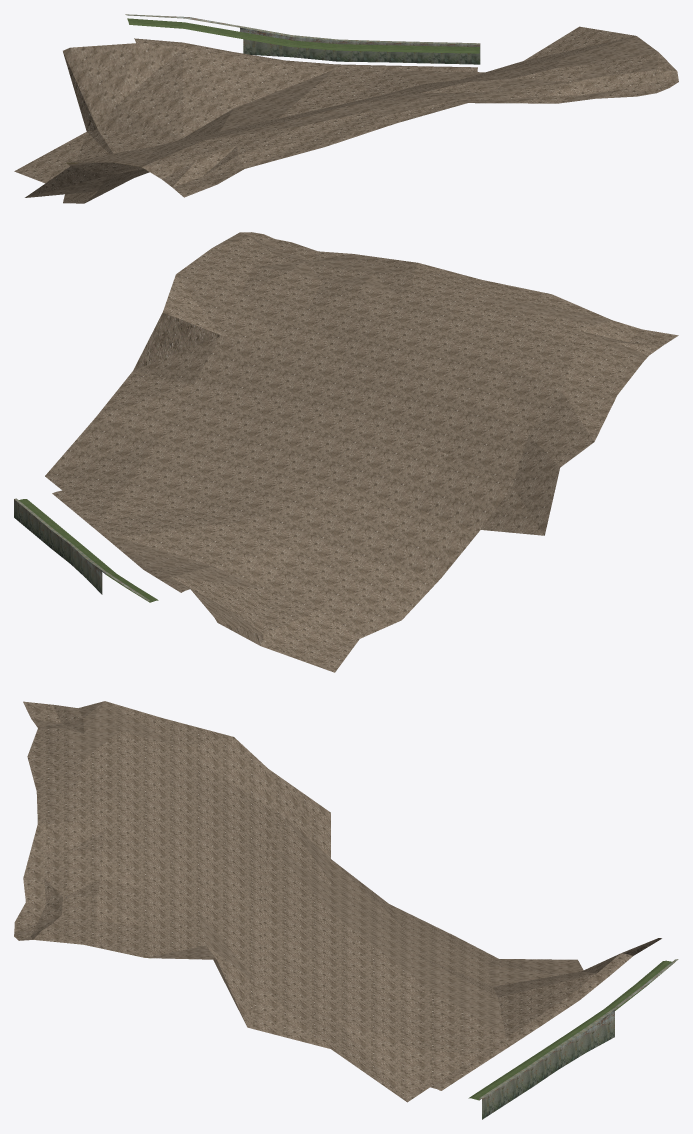
Rendered from cs_landbit_32.obj.
The picture shows the model from 3 angles, top to bottom: view 1: azimuth 30°, elevation 25°; view 2: azimuth 150°, elevation 25°; view 3: azimuth 270°, elevation 25°; orthographic projection. The views are drawn at different scales.
Visible parts, largest first — view 1: cs_landbit_32; view 2: cs_landbit_32; view 3: cs_landbit_32.
Part boxes in pixels (box(x1,y1,x2,y2)): cs_landbit_32: box(14, 14, 678, 203); cs_landbit_32: box(14, 232, 678, 672); cs_landbit_32: box(14, 701, 678, 1119).
Bounding box in the file's own units: 232 × 92.36 × 251.
Materials: 6 (6 with a texture image).
